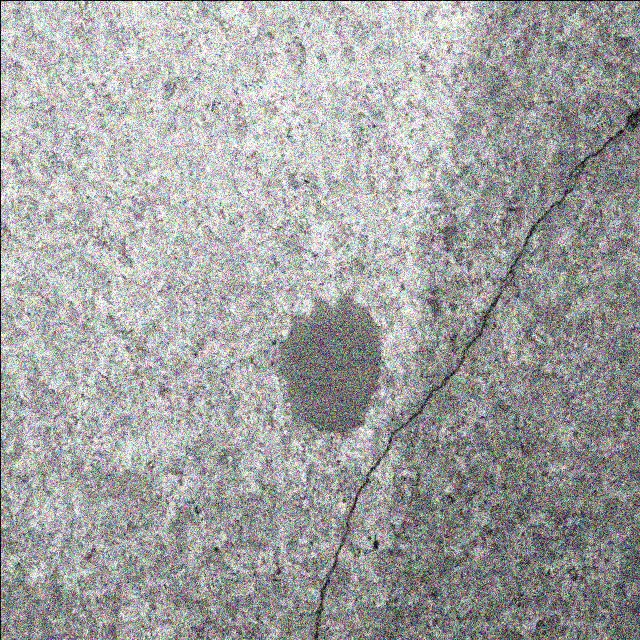SurfaceCrack: (205, 1, 640, 639)
